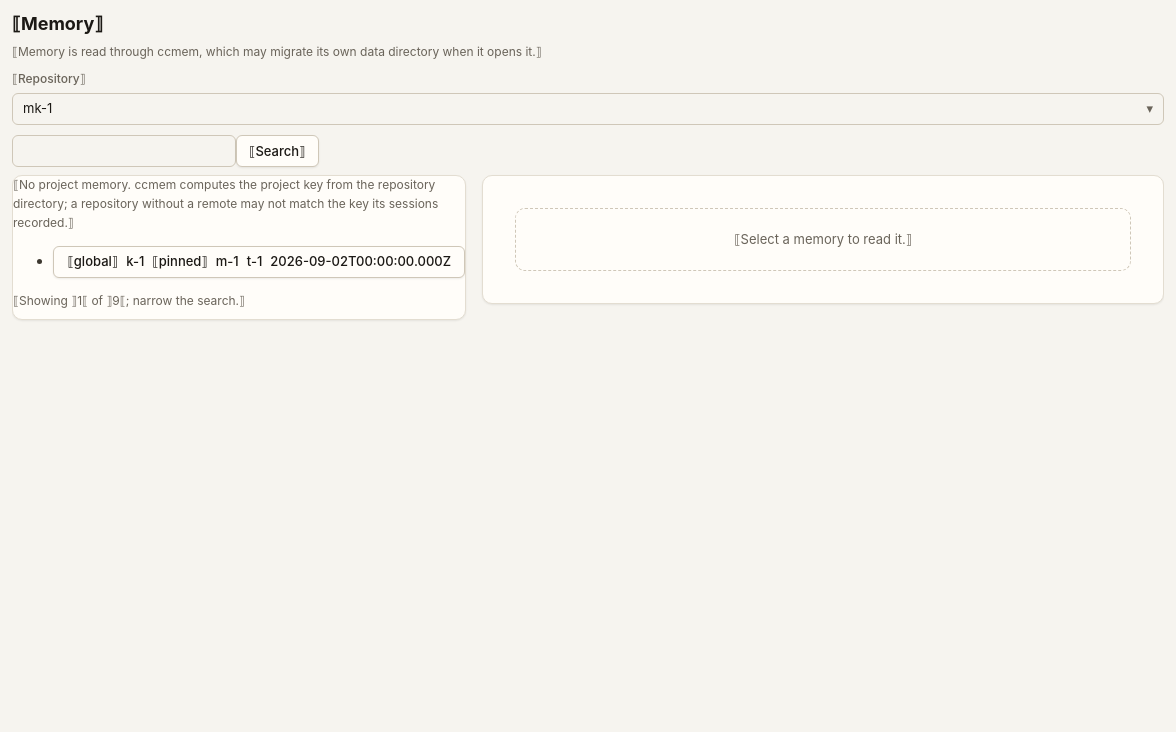
Scenario: everything visible goes through t (spec §6.5) › memory: no English value is left once the pseudo-locale's ⟦…⟧ are stripped
Click the button with class "memory-row": (259, 262) 53,246 -> 465,278
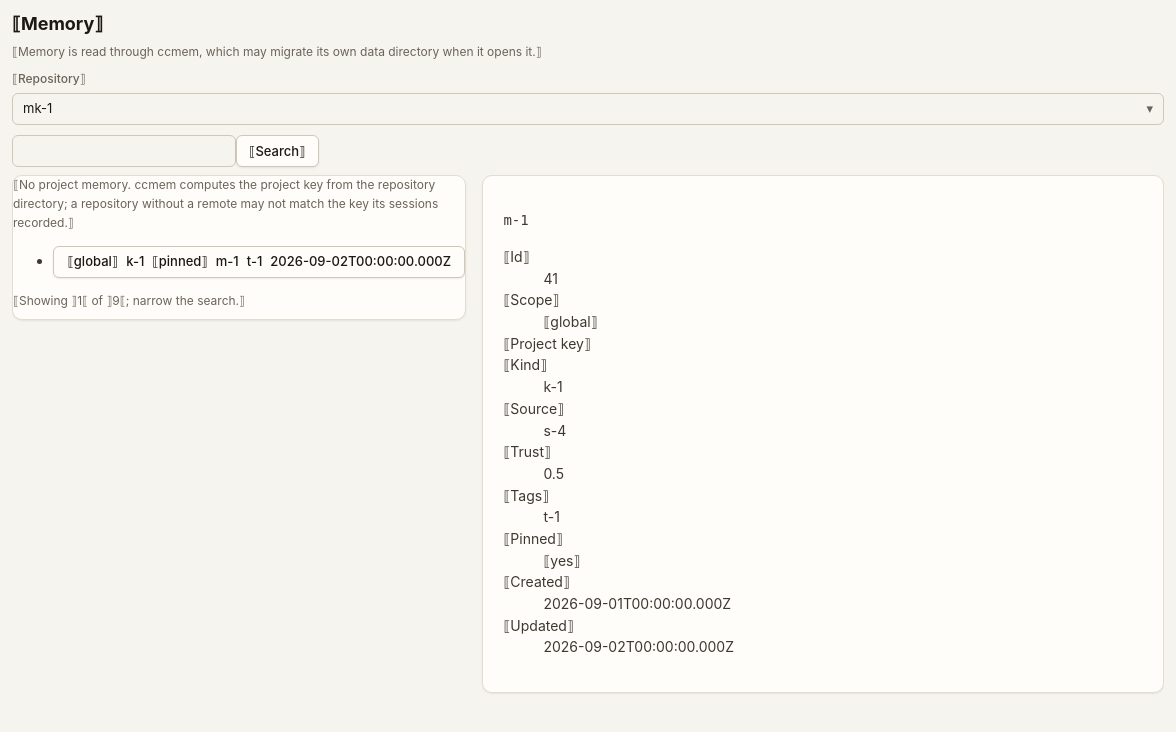
Check: the text "⟦" is shown, box 12,13 -> 103,34
Check: the text with test id "memory-content" is shown, box 503,212 -> 529,228
